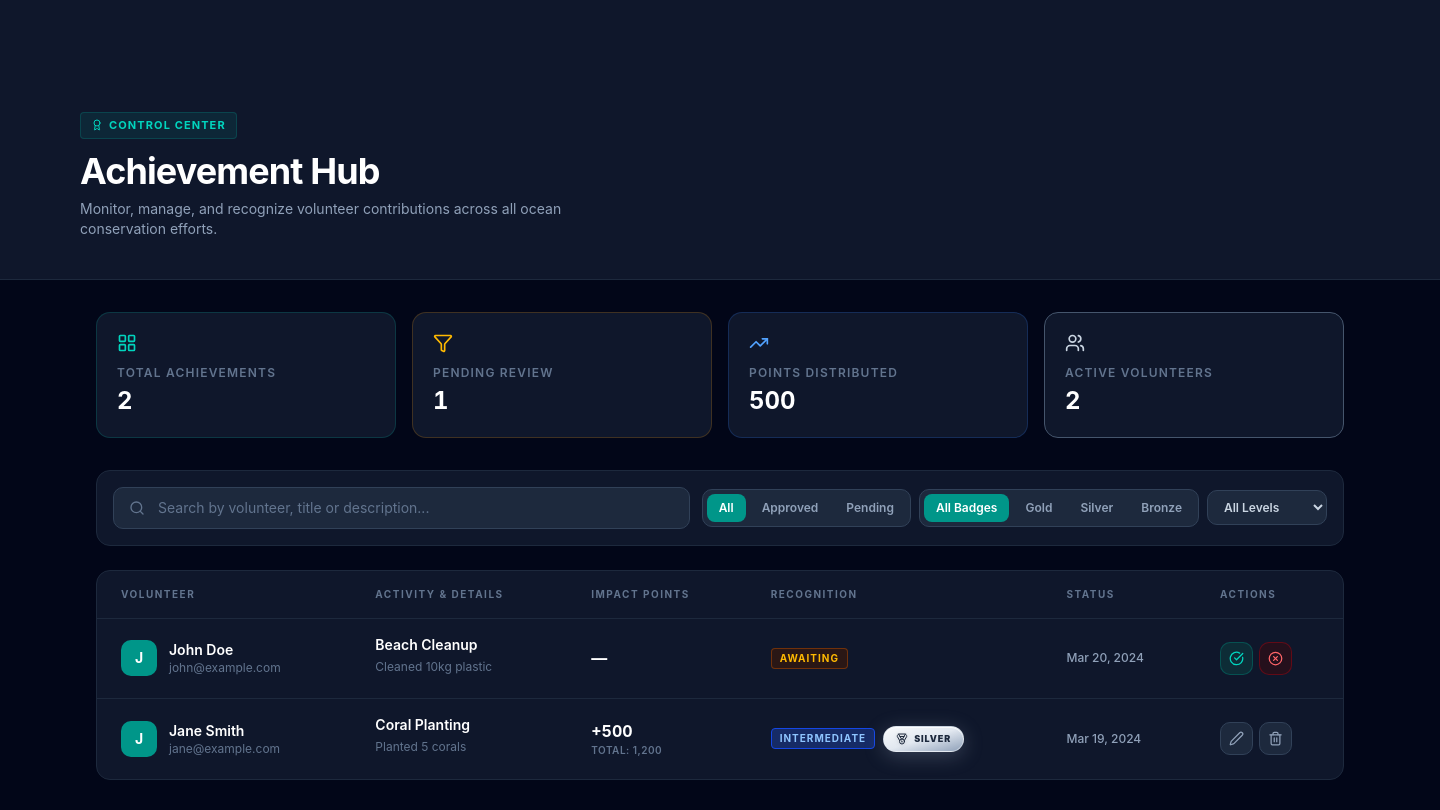
Test: AchievementHub Integration › searches for achievements by volunteer name
Expected: the text "Beach Cleanup" is shown, x1=375 y1=636 x2=478 y2=652
Type "Jane" into the field with placeholder "Search by volunteer, title or description..." at (401, 508), box x1=113 y1=486 x2=690 y2=528
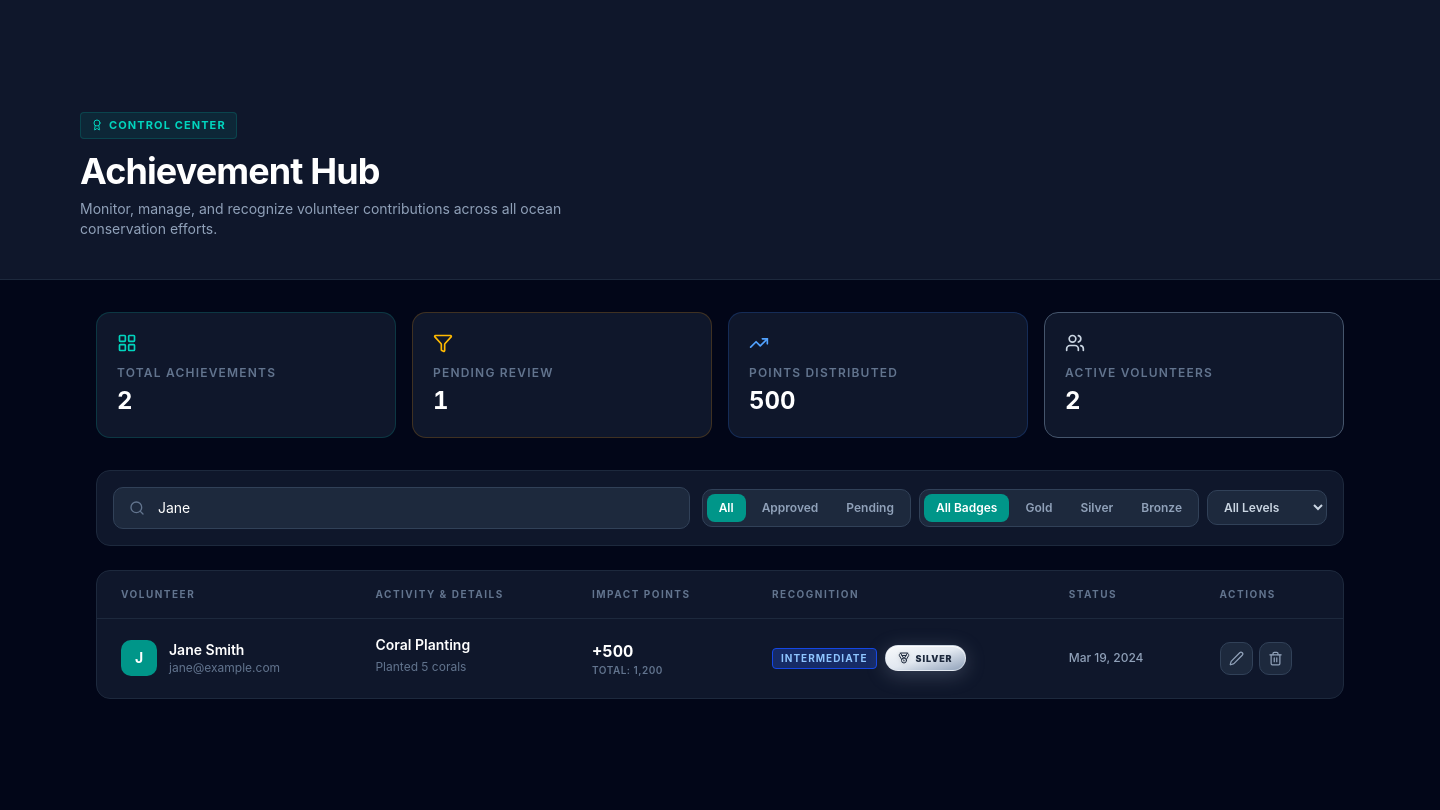
Expected: the text "Jane Smith" is shown, x1=169 y1=641 x2=244 y2=658
Expected: the text "John Doe" is gone
